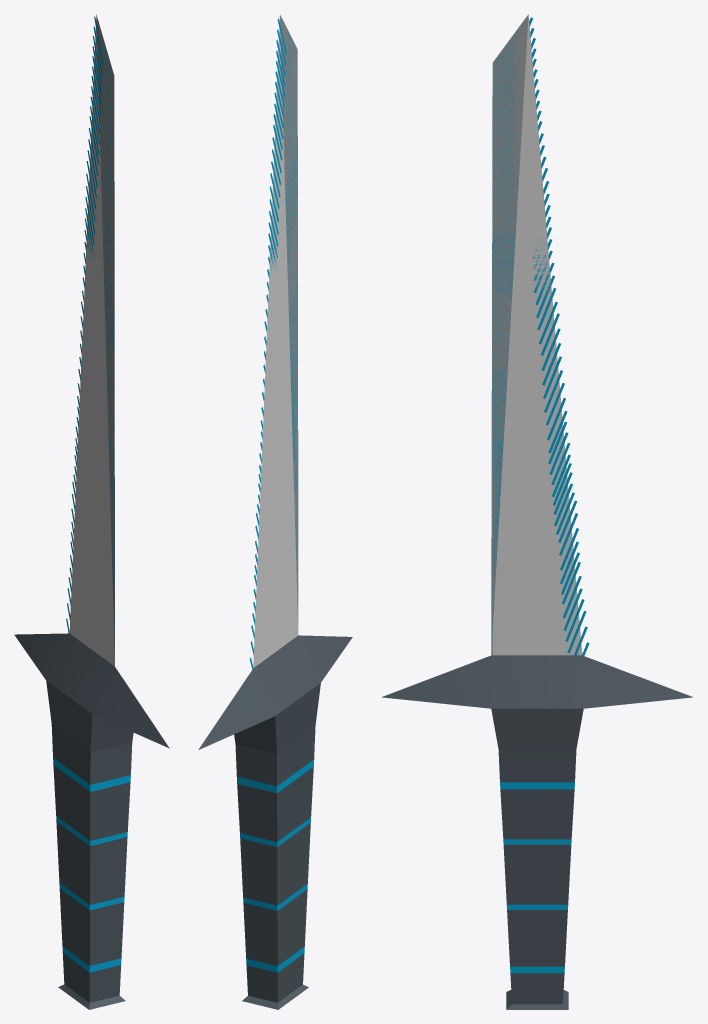
The model's file is Sword(Textured).fbx.
The picture shows the model from 3 angles, left to right: view 1: azimuth 30°, elevation 25°; view 2: azimuth 150°, elevation 25°; view 3: azimuth 270°, elevation 25°; orthographic projection.
Parts seen in each view (by area): view 1: pCube1; view 2: pCube1; view 3: pCube1.
Part boxes in pixels (<box>): pCube1: <box>14,14,169,1009</box>; pCube1: <box>198,15,352,1009</box>; pCube1: <box>382,14,692,1009</box>.
Size of the model in its own units: 0.5703 by 11.77 by 3.38.
